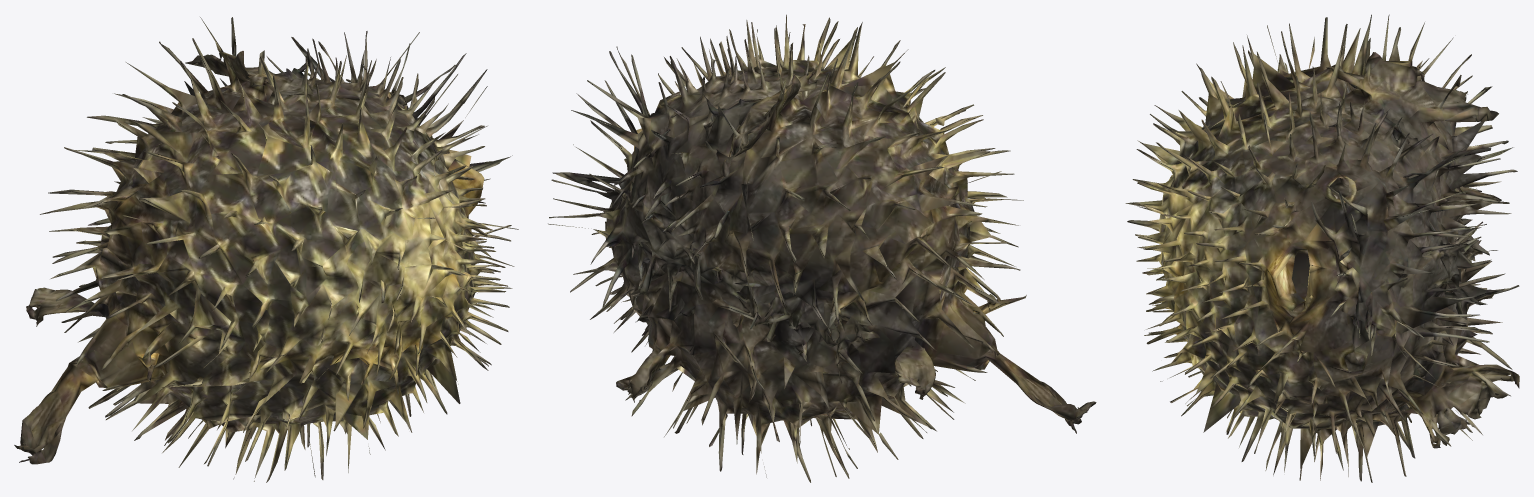
Rendered from puffer-fish.glb.
The picture shows the model from 3 angles, left to right: view 1: azimuth 30°, elevation 25°; view 2: azimuth 150°, elevation 25°; view 3: azimuth 270°, elevation 25°; orthographic projection.
Parts seen in each view (by area): view 1: Object_2; view 2: Object_2; view 3: Object_2.
Boxes of the visible parts, x1=… form: Object_2: x1=14, y1=17, x2=518, y2=482; Object_2: x1=548, y1=14, x2=1096, y2=482; Object_2: x1=1125, y1=14, x2=1519, y2=482.
Bounding box in the file's own units: 161 × 128 × 108.
1 material, 1 textured.
